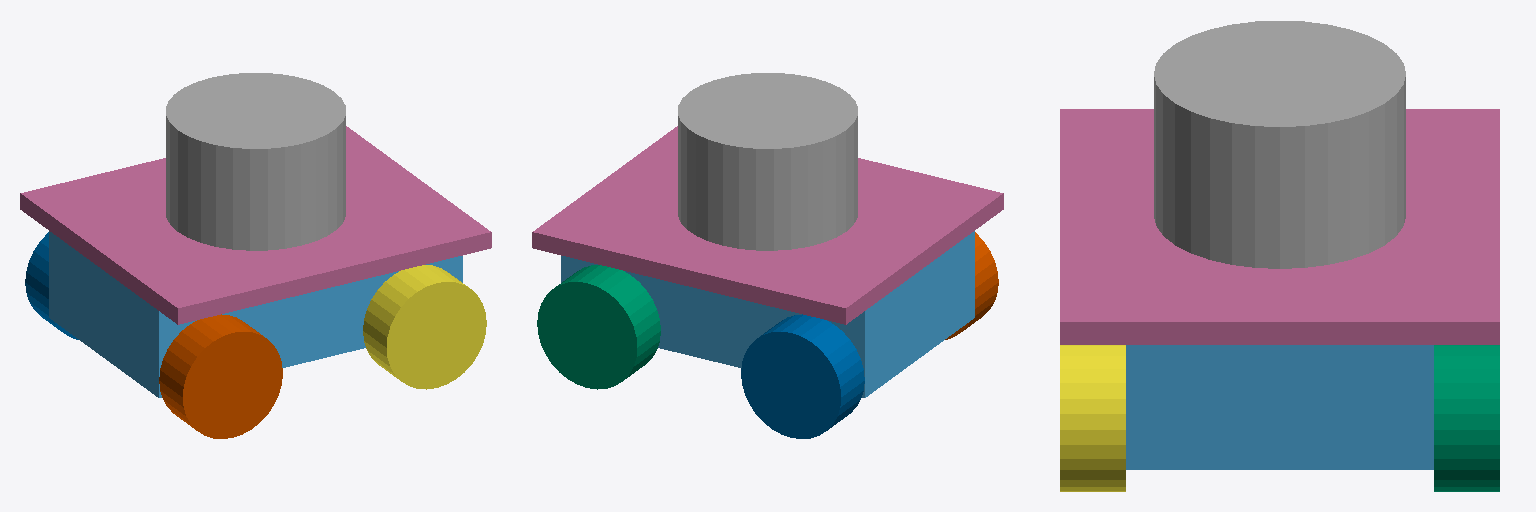
URDF robot description (wall_e_lid):
<?xml version="1.0"?>
<robot name="wall_e_lid">

#TODO: dimensions of the body

	<link name="base_footprint">
		<visual>
      			<origin xyz="0 0 0" rpy="0 0 0" />
      			<geometry>
        			<box size="0.001 0.001 0.001" />
      			</geometry>
    		</visual>
  	</link>

	  <joint name="base_link_joint" type="fixed">
    		<origin xyz="0 0 0" rpy="0 0 0" />
    		<parent link="base_footprint"/>
		<child link="base_link" />
	  </joint>

	<link name="base_link">
		<visual>
			<geometry>
				<box size="0.194 0.122 0.056"/>
			</geometry>
			<material name="red"/>
		</visual>

		<collision>
			<geometry>
				<box size="0.194 0.122 0.056"/>
			</geometry>
		</collision>

		<inertial>
			<mass value="1"/>
			<inertia ixx="0.001501" iyy="0.069444" izz="0.003976" ixy="0" ixz="0" iyz="0"/>
		</inertial>

	</link>

	<link name="left_front_wheel">
		<visual>
			<geometry>
				<cylinder length="0.026" radius="0.032"/>
			</geometry>
			<origin rpy="1.57075 0 0" xyz="0 0 0"/>
			<material name="black"/>
		</visual>

		<collision>
			<geometry>
				<cylinder length="0.026" radius="0.032"/>
			</geometry>
			<origin rpy="1.57075 0 0" xyz="0 0 0"/>
		</collision>

		<inertial>
      			<mass value="0.35" />
      			<inertia ixx="0.000295835" iyy="0.000451612" izz="0.000295835" ixy="0" ixz="0" iyz="0"/>
    		</inertial>

	</link>

	<joint name="base_to_lf_wheel" type="continuous">
		<axis rpy="0 0 0" xyz="0 1 0"/>
		<parent link="base_link"/>
		<child link="left_front_wheel"/>
		<origin rpy="0 0 0" xyz="0.065 0.074 -0.017"/>
	</joint>

	<link name="right_front_wheel">
                <visual>
                        <geometry>
                                <cylinder length="0.026" radius="0.032"/>
                        </geometry>
                        <origin rpy="1.57075 0 0" xyz="0 0 0"/>
			<material name="black"/>
                </visual>

		<collision>
			<geometry>
				<cylinder length="0.026" radius="0.032"/>
			</geometry>
			<origin rpy="1.57075 0 0" xyz="0 0 0"/>
		</collision>

		<inertial>
      			<mass value="0.35" />
      			<inertia ixx="0.000295835" iyy="0.000451612" izz="0.000295835" ixy="0" ixz="0" iyz="0"/>
    		</inertial>
        </link>

        <joint name="base_to_rf_wheel" type="continuous">
		<axis rpy="0 0 0" xyz="0 1 0"/>
                <parent link="base_link"/>
                <child link="right_front_wheel"/>
                <origin rpy="0 0 0" xyz="0.065 -0.074 -0.017"/>
        </joint>

	<link name="left_back_wheel">
                <visual>
                        <geometry>
                                <cylinder length="0.026" radius="0.032"/>
                        </geometry>
                        <origin rpy="1.57075 0 0" xyz="0 0 0"/>
			<material name="black"/>
                </visual>

		<collision>
			<geometry>
				<cylinder length="0.026" radius="0.032"/>
			</geometry>
			<origin rpy="1.57075 0 0" xyz="0 0 0"/>
		</collision>

		<inertial>
      			<mass value="0.35" />
      			<inertia ixx="0.000295835" iyy="0.000451612" izz="0.000295835" ixy="0" ixz="0" iyz="0"/>
    		</inertial>
        </link>

        <joint name="base_to_lb_wheel" type="continuous">
                <axis rpy="0 0 0" xyz="0 1 0"/>
                <parent link="base_link"/>
                <child link="left_back_wheel"/>
                <origin rpy="0 0 0" xyz="-0.065 0.074 -0.017"/>
        </joint>

	<link name="right_back_wheel">
                <visual>
                        <geometry>
                                <cylinder length="0.026" radius="0.032"/>
                        </geometry>
                        <origin rpy="1.57075 0 0" xyz="0 0 0"/>
			<material name="black"/>
                </visual>

		<collision>
			<geometry>
				<cylinder length="0.026" radius="0.032"/>
			</geometry>
			<origin rpy="1.57075 0 0" xyz="0 0 0"/>
		</collision>

		<inertial>
      			<mass value="0.35" />
      			<inertia ixx="0.000295835" iyy="0.000451612" izz="0.000295835" ixy="0" ixz="0" iyz="0"/>
    		</inertial>
        </link>

        <joint name="base_to_rb_wheel" type="continuous">
                <axis rpy="0 0 0" xyz="0 1 0"/>
                <parent link="base_link"/>
                <child link="right_back_wheel"/>
                <origin rpy="0 0 0" xyz="-0.065 -0.074 -0.017"/>
        </joint>

	<link name="body">
		<visual>
			<geometry>
				<box size="0.2 0.174 0.01"/>
			</geometry>
			<material name="red"/>
		</visual>

		<collision>
			<geometry>
				<box size="0.2 0.174 0.01"/>
			</geometry>
		</collision>
	</link>

	<joint name="base_to_body" type="fixed">
		<parent link="base_link"/>
		<child link="body"/>
		<origin rpy="0 0 0" xyz="0 0 0.033"/>
	</joint>



         <link name="hokuyo_link" type="laser">
 <inertial>
      <mass value="1e-5" />
      <origin xyz="0 0 0" rpy="0 0 0"/>
      <inertia ixx="1e-6" ixy="0" ixz="0" iyy="1e-6" iyz="0" izz="1e-6" />
    </inertial>
     <visual>
       <origin xyz="0 0 0" rpy="0 0 0"/>
       <geometry>
         <cylinder length="0.1" radius="0.05" />
       </geometry>
     </visual>
     <collision>
      <origin xyz="0 0 0" rpy="0 0 0"/>
       <geometry>
         <cylinder length="0.1" radius="0.05" />
       </geometry>
     </collision>
  </link>

<joint name="hokuyo_link" type="fixed">
  <origin xyz="0 0 0.05" rpy="0 0 0" />
  <parent link="base_link" />
  <child link="hokuyo_link"/>
</joint>

   <gazebo reference="hokuyo_link">
    <sensor type="ray" name="head_hokuyo_sensor">
      <pose>0 0 0 0 0 0</pose>
      <visualize>true</visualize>
      <update_rate>40</update_rate>
      <ray>
        <scan>
          <horizontal>
            <samples>8</samples>
            <resolution>1</resolution>
            <min_angle>0</min_angle>
            <max_angle>5.497787144</max_angle>


          </horizontal>
        </scan>
        <range>
          <min>0.1</min>
          <max>30.0</max>
          <resolution>0.01</resolution>
        </range>
        <noise>
          <type>gaussian</type>
          <!-- Noise parameters based on published spec for Hokuyo laser
               achieving "+-30mm" accuracy at range < 10m.  A mean of 0.0m and
               stddev of 0.01m will put 99.7% of samples within 0.03m of the true
               reading. -->
          <mean>0.0</mean>
          <stddev>0.01</stddev>
        </noise>
      </ray>
      <plugin name="gazebo_ros_head_hokuyo_controller" filename="libgazebo_ros_laser.so">
        <topicName>/laser/scanLidar</topicName>
        <frameName>hokuyo_link</frameName>
      </plugin>
    </sensor>
  </gazebo>



	<gazebo>
		<plugin name="skid_steer_drive_controller" filename="libgazebo_ros_skid_steer_drive.so">
			<updateRate>100.0</updateRate>
    			<robotNamespace>/</robotNamespace>
    			<leftFrontJoint>base_to_lf_wheel</leftFrontJoint>
    			<rightFrontJoint>base_to_rf_wheel</rightFrontJoint>
    			<leftRearJoint>base_to_lb_wheel</leftRearJoint>
    			<rightRearJoint>base_to_rb_wheel</rightRearJoint>
   		 	<wheelSeparation>0.4</wheelSeparation>
    			<wheelDiameter>0.064</wheelDiameter>
 			<robotBaseFrame>base_link</robotBaseFrame>
    			<torque>20</torque>
    			<topicName>cmd_vel</topicName>
    			<broadcastTF>true</broadcastTF>
  		</plugin>
	</gazebo>
</robot>

--- Render facts (derived) ---
Views: 3 orthographic renders of the robot side by side, from view 1: azimuth 30°, elevation 25°; view 2: azimuth 150°, elevation 25°; view 3: azimuth 270°, elevation 25°.
Model wall_e_lid with 8 links and 7 joints (4 continuous, 3 fixed), rooted at base_footprint, posed all joints at 0.
Visible links, largest first — view 1: body, hokuyo_link, base_link, right_front_wheel, right_back_wheel, left_back_wheel; view 2: body, hokuyo_link, base_link, left_front_wheel, left_back_wheel, right_back_wheel; view 3: body, hokuyo_link, base_link, left_front_wheel, right_front_wheel.
Link boxes in pixels (x1=…): body: x1=20, y1=126, x2=491, y2=324; hokuyo_link: x1=166, y1=73, x2=345, y2=250; base_link: x1=49, y1=231, x2=462, y2=397; right_front_wheel: x1=363, y1=265, x2=486, y2=389; right_back_wheel: x1=159, y1=314, x2=282, y2=438; left_back_wheel: x1=25, y1=232, x2=78, y2=339; body: x1=532, y1=126, x2=1003, y2=324; hokuyo_link: x1=678, y1=73, x2=857, y2=250; base_link: x1=561, y1=231, x2=974, y2=397; left_front_wheel: x1=537, y1=265, x2=660, y2=389; left_back_wheel: x1=741, y1=314, x2=864, y2=438; right_back_wheel: x1=945, y1=232, x2=998, y2=339; body: x1=1060, y1=109, x2=1499, y2=344; hokuyo_link: x1=1154, y1=21, x2=1405, y2=268; base_link: x1=1126, y1=345, x2=1433, y2=469; left_front_wheel: x1=1434, y1=345, x2=1499, y2=491; right_front_wheel: x1=1060, y1=345, x2=1125, y2=491.
Size in the robot's own frame: 0.2 by 0.174 by 0.149 metres.
Geometry: primitives only (box / cylinder / sphere), no mesh files.
